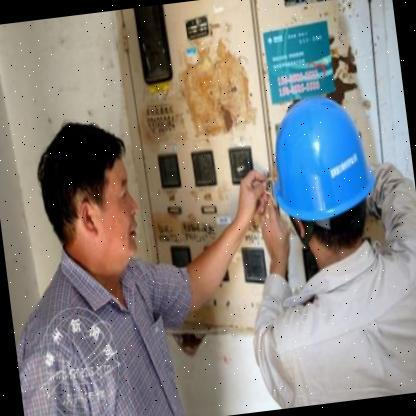capacete: (250, 66, 390, 287)
